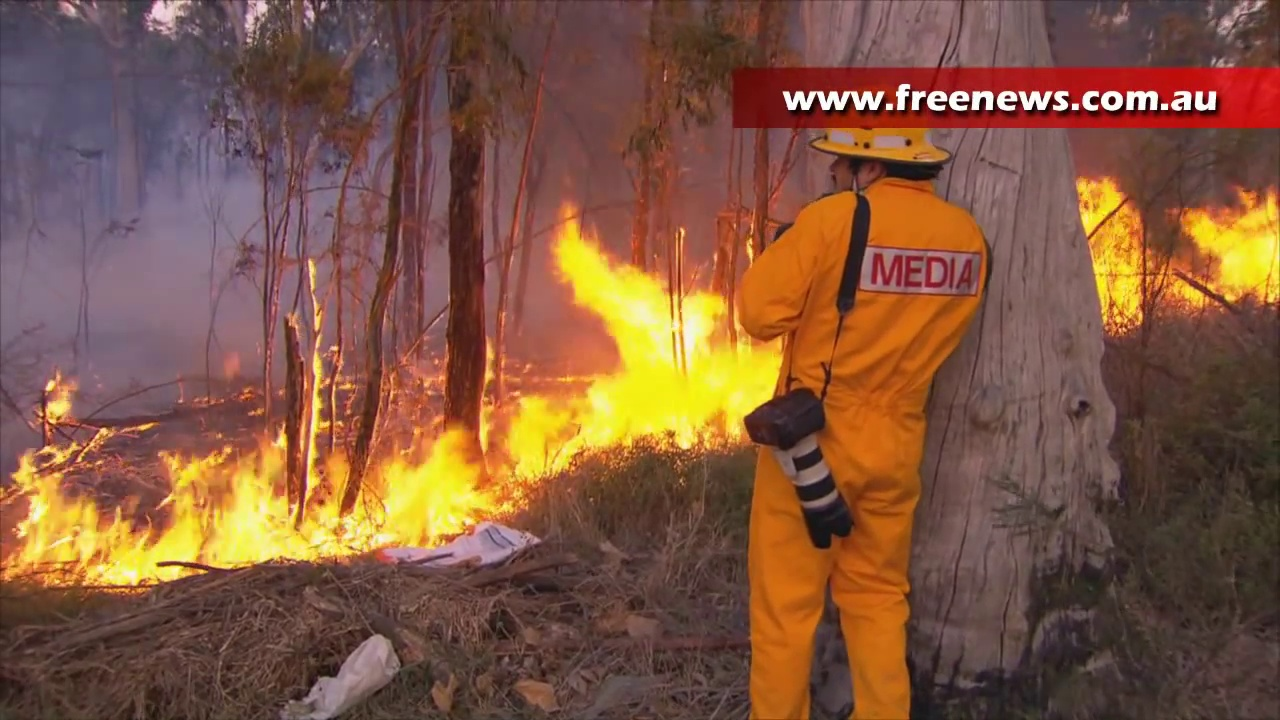fire: (1, 459, 377, 584), (555, 211, 740, 440), (374, 432, 483, 552), (1191, 189, 1280, 296), (1085, 172, 1143, 325), (304, 274, 322, 443), (46, 382, 71, 420)
